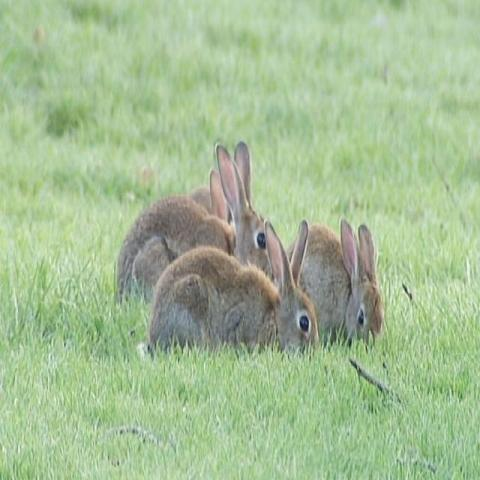small_animal: (109, 140, 291, 310), (132, 217, 326, 360), (283, 216, 388, 348)
